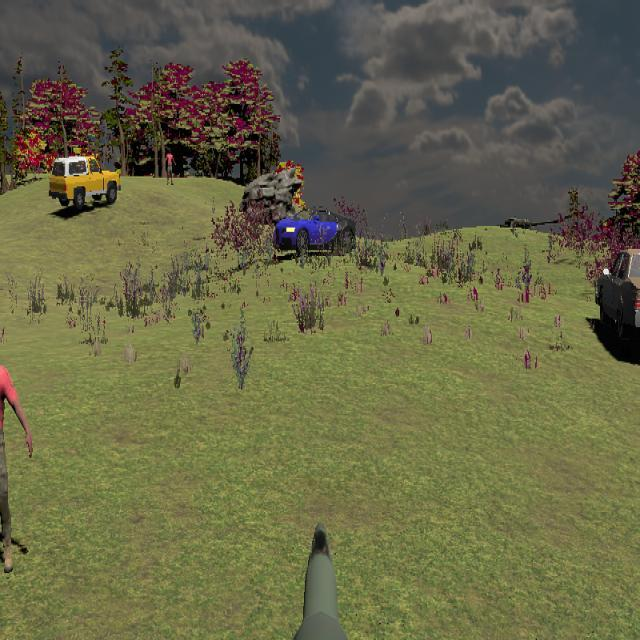Human: (0, 318, 33, 572), (164, 147, 176, 186)
car: (596, 248, 640, 352), (273, 204, 357, 257), (49, 155, 121, 210)
